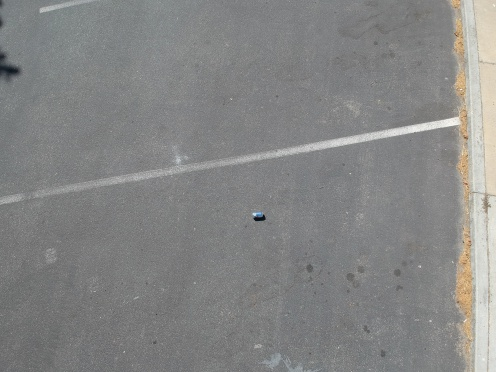can: (246, 209, 267, 219)
